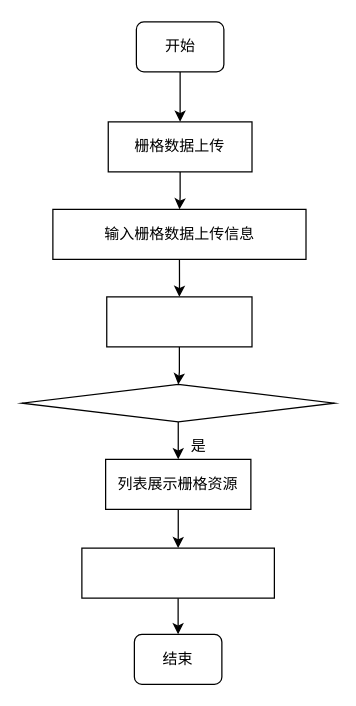
The diagram is 356 pixels wide and 706 high, and some of its shapes have lost their labels. Here are the shapes that lost their labels. From the top down, the centre of each, then its label:
pixel 179 321: 上传
pixel 177 402: 是否上传成功
pixel 177 572: 提供栅格资源操作按钮
